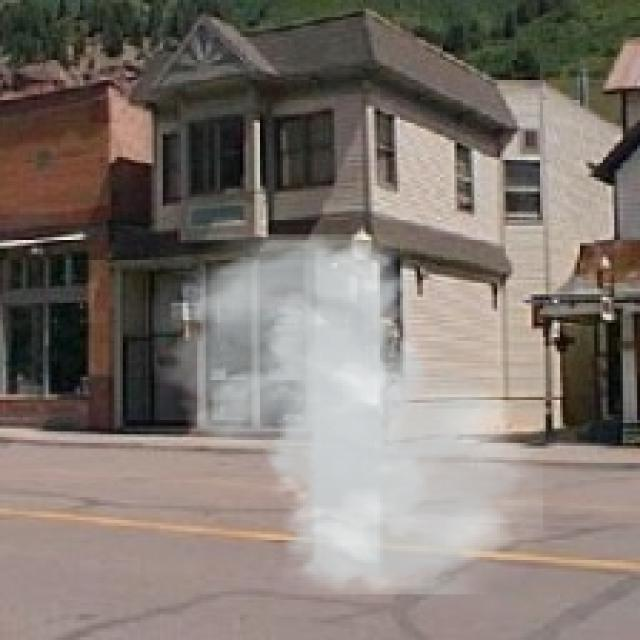Smoke: (151, 235, 543, 594)
